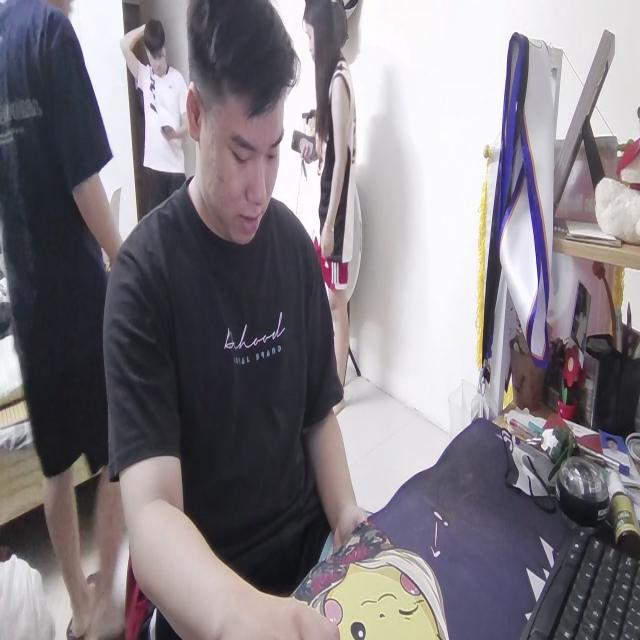extra_person: (0, 0, 125, 640), (290, 1, 360, 396), (118, 12, 192, 214)
student: (100, 0, 367, 640)
